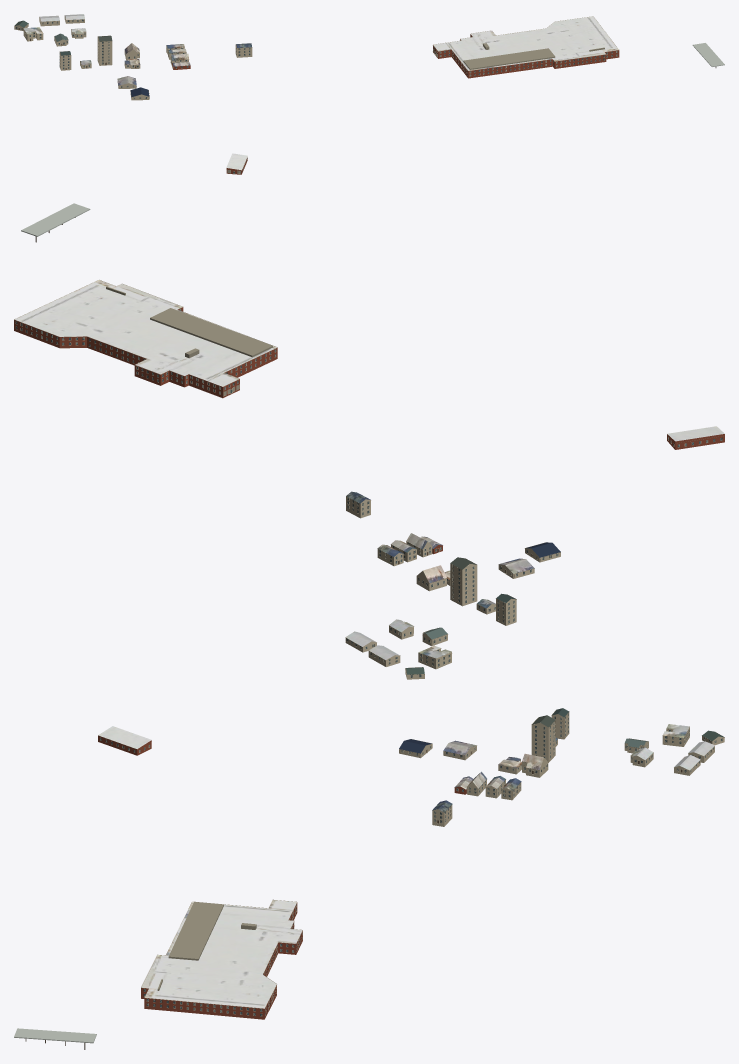
3 renders of one model, top to bottom at view 1: azimuth 30°, elevation 25°; view 2: azimuth 150°, elevation 25°; view 3: azimuth 270°, elevation 25°, orthographic. The views are drawn at different scales.
Parts seen in each view (by area): view 1: 2_0_322993949_0, 2_0_629313316_16, 2_0_629313659_29, 2_0_-10075217784_45; view 2: 2_0_322993949_0, 2_0_629313316_16, 2_0_629313659_29, 2_0_-10075217784_45; view 3: 2_0_322993949_0, 2_0_629313316_16, 2_0_-10075217784_45, 2_0_629313659_29.
Boxes of the visible parts, x1,y1,x2,y2 form: 2_0_322993949_0: (14,14,619,174); 2_0_629313316_16: (14,15,252,100); 2_0_629313659_29: (15,20,149,97); 2_0_-10075217784_45: (692,43,724,67); 2_0_322993949_0: (14,280,724,677); 2_0_629313316_16: (345,496,560,679); 2_0_629313659_29: (405,542,560,674); 2_0_-10075217784_45: (21,203,90,242); 2_0_322993949_0: (98,710,724,1019); 2_0_629313316_16: (399,712,724,826); 2_0_-10075217784_45: (14,1028,96,1049); 2_0_629313659_29: (399,708,723,753).
Size of the model in its own units: 513 by 28.24 by 443.
16 materials, 1 textured.
